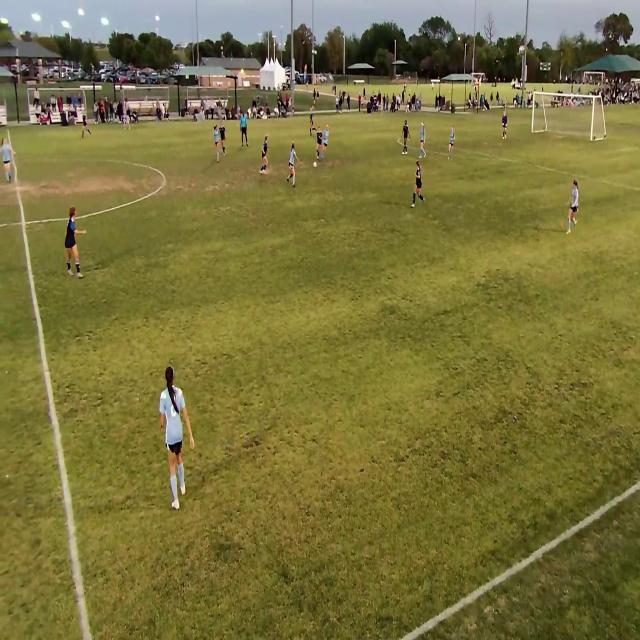ball: (312, 161, 316, 168)
team1: (63, 206, 82, 279), (413, 159, 425, 207), (261, 133, 270, 174), (220, 117, 228, 156), (403, 118, 411, 154), (82, 112, 92, 140), (316, 124, 322, 164), (309, 109, 315, 139)
team2: (162, 364, 193, 510), (4, 137, 18, 188), (569, 180, 582, 232), (288, 143, 298, 190), (322, 124, 330, 163), (418, 122, 426, 158), (212, 123, 219, 160), (448, 125, 455, 157), (122, 114, 131, 132)
